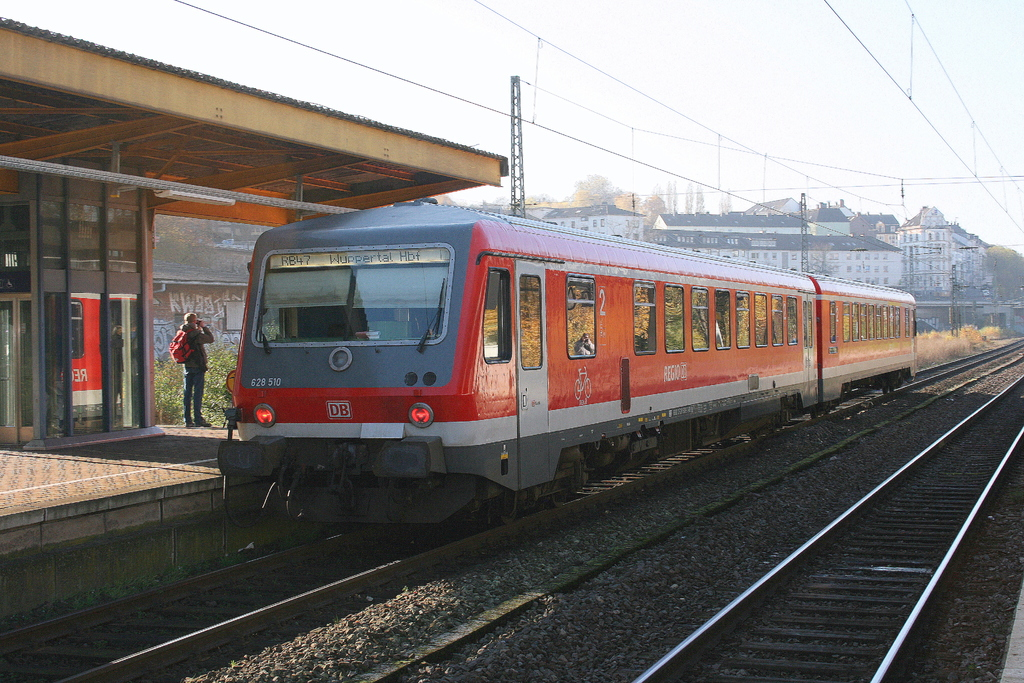train: (212, 205, 912, 532)
